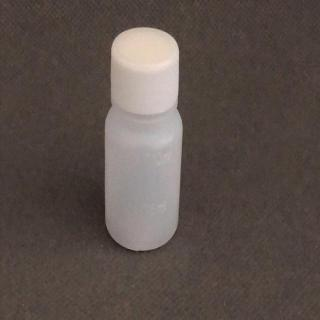Plastic-bottle: (103, 25, 185, 257)
